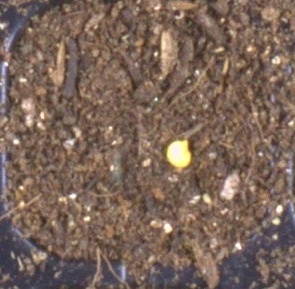chilli seed: (165, 139, 192, 169)
